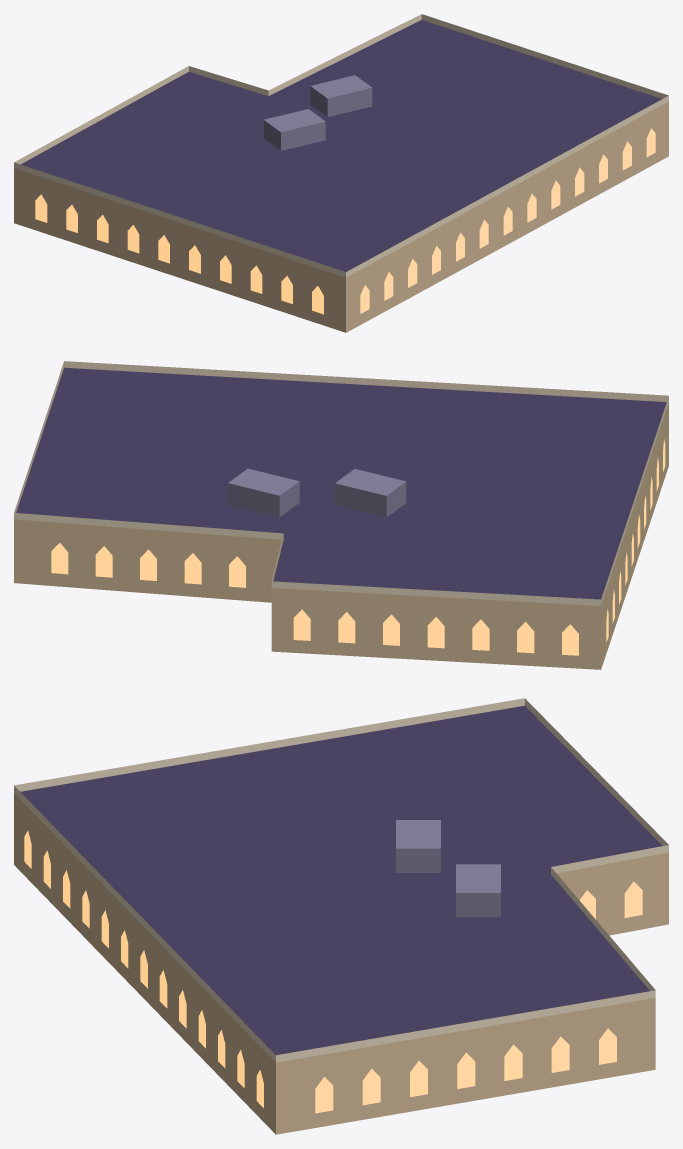
3 renders of one model, top to bottom at view 1: azimuth 30°, elevation 25°; view 2: azimuth 150°, elevation 25°; view 3: azimuth 270°, elevation 25°, orthographic. The views are drawn at different scales.
Parts seen in each view (by area): view 1: campus/b-007-0; view 2: campus/b-007-0; view 3: campus/b-007-0.
Part boxes in pixels (x1,y1,x2,y2): campus/b-007-0: (14,14,668,332); campus/b-007-0: (14,361,668,669); campus/b-007-0: (14,698,668,1134).
Size of the model in its own units: 56.33 by 7.1 by 43.67.
